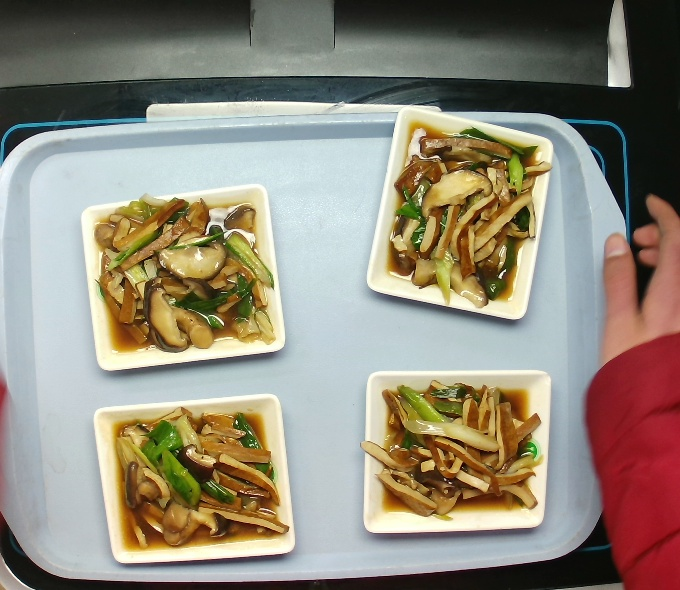wcq-XiangGuChaoXiangGan: (91, 201, 264, 354), (111, 400, 284, 553), (375, 372, 544, 524), (391, 122, 528, 306)
